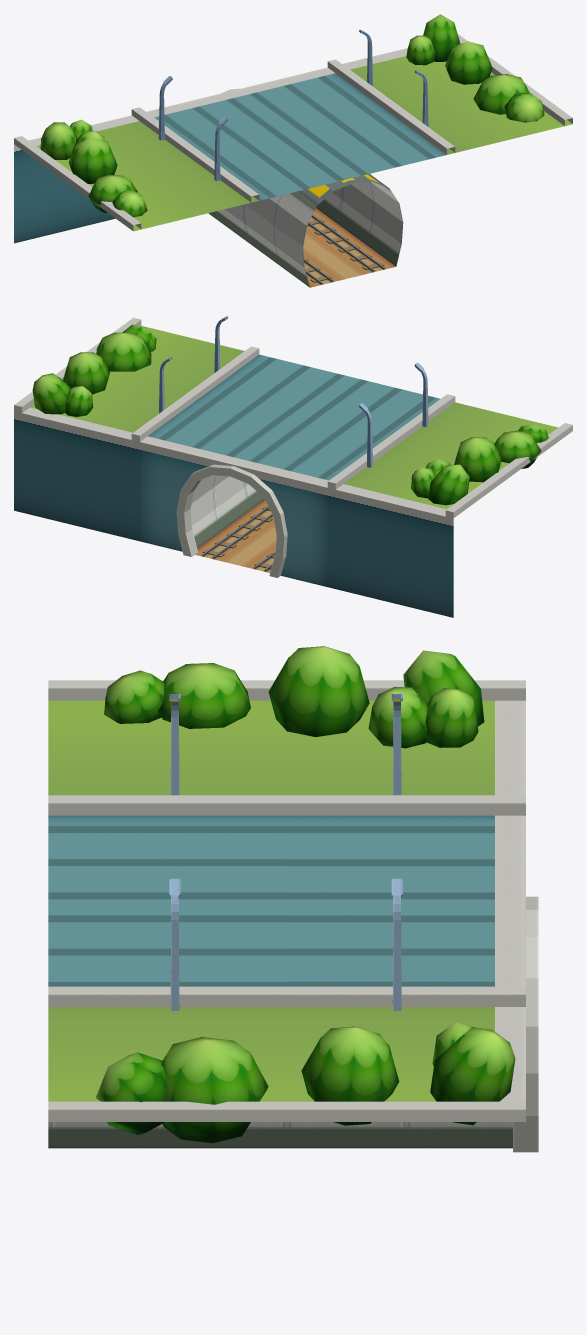
File: Tunnel02_03.FBX
The picture shows the model from 3 angles, top to bottom: view 1: azimuth 30°, elevation 25°; view 2: azimuth 150°, elevation 25°; view 3: azimuth 270°, elevation 25°; orthographic projection. The views are drawn at different scales.
Parts seen in each view (by area): view 1: Tunnel, Rail; view 2: Tunnel, Rail; view 3: Tunnel.
Boxes of the visible parts, left/top/right/bottom form: Tunnel: left=14, top=14, right=572, bottom=287; Rail: left=303, top=223, right=395, bottom=287; Tunnel: left=14, top=316, right=572, bottom=617; Rail: left=195, top=510, right=276, bottom=572; Tunnel: left=48, top=646, right=538, bottom=1152.
Bounding box in the file's own units: 3420 × 1183 × 1643.
